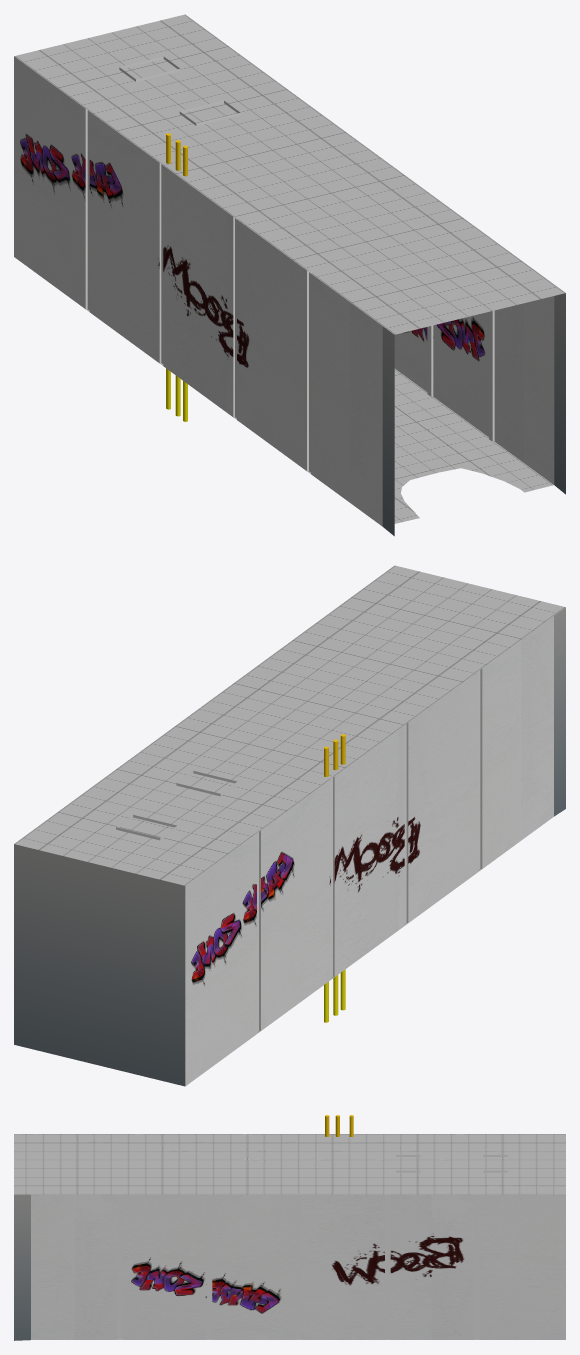
Rendered from SceneShoot_Room.fbx.
3 views of the same model, one above another, from view 1: azimuth 30°, elevation 25°; view 2: azimuth 150°, elevation 25°; view 3: azimuth 270°, elevation 25° (orthographic). The views are drawn at different scales.
Parts seen in each view (by area): view 1: Cube.001; view 2: Cube.001; view 3: Cube.001.
Boxes of the visible parts, <box> form: Cube.001: <box>14,14,565,536</box>; Cube.001: <box>14,565,565,1086</box>; Cube.001: <box>14,1115,565,1340</box>.
Bounding box in the file's own units: 2896 × 4425 × 11146.
